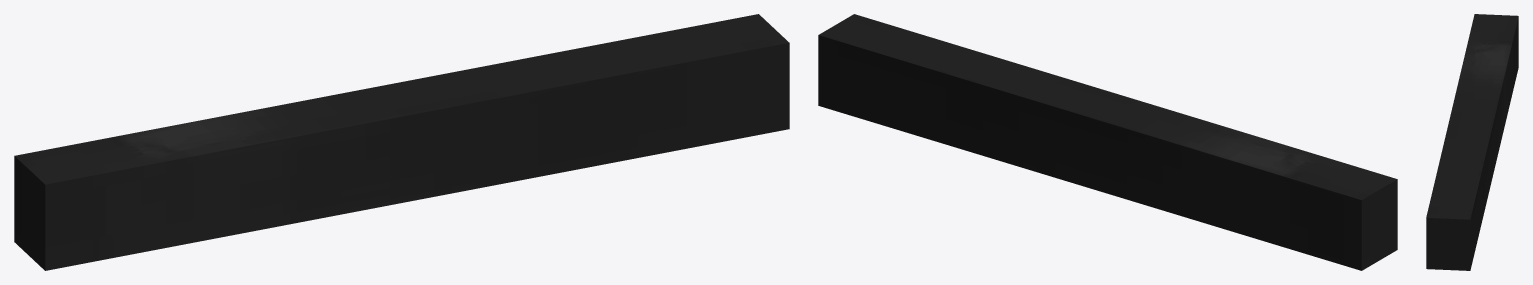
File: seat__seat_rail_0.glb
The picture shows the model from 3 angles, left to right: view 1: azimuth 30°, elevation 25°; view 2: azimuth 150°, elevation 25°; view 3: azimuth 270°, elevation 25°; orthographic projection. The views are drawn at different scales.
Parts seen in each view (by area): view 1: world; view 2: world; view 3: world.
Part boxes in pixels (x1,y1,x2,y2): world: (14,14,789,270); world: (818,14,1397,270); world: (1426,14,1518,270).
Bounding box in the file's own units: 0.241 × 0.028 × 0.0459.
1 material, 1 textured.
